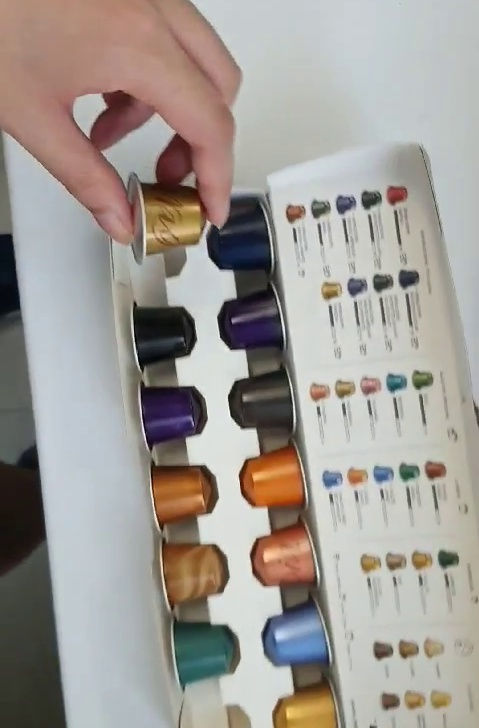capsule_9: (123, 172, 211, 261)
